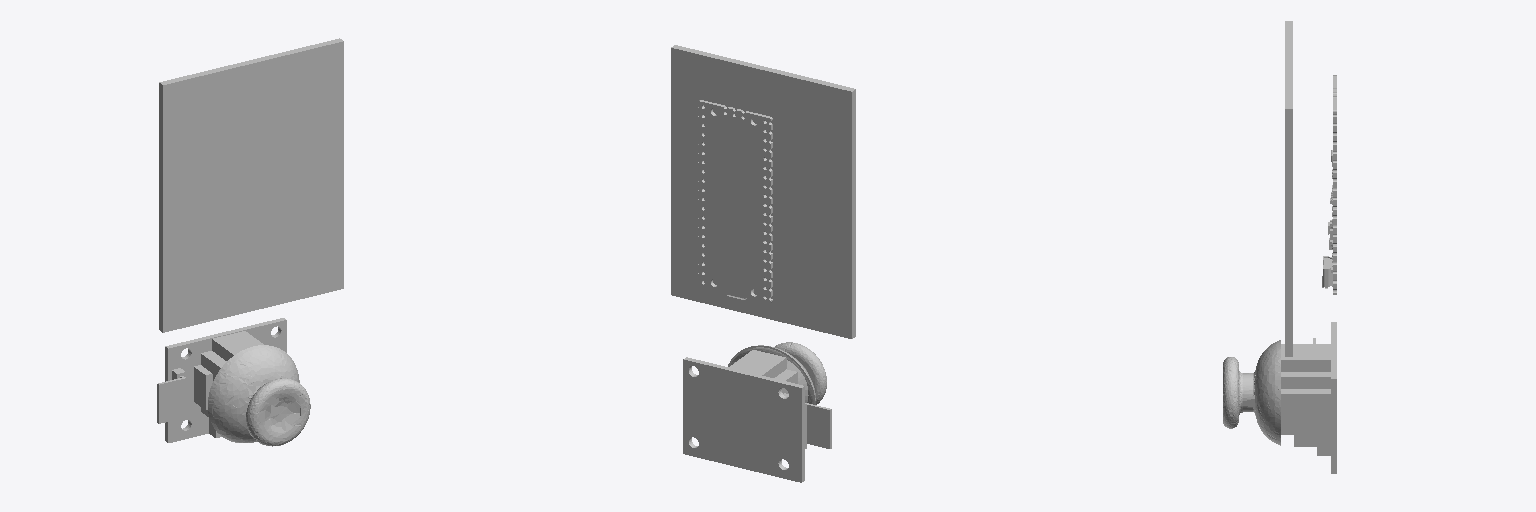
The model's file is components.obj.
3 renders of one model, left to right at view 1: azimuth 30°, elevation 25°; view 2: azimuth 150°, elevation 25°; view 3: azimuth 270°, elevation 25°, orthographic.
Visible parts, largest first — view 1: obj_0; view 2: obj_0; view 3: obj_0.
Part boxes in pixels (x1,y1,x2,y2): obj_0: (157,38,343,446); obj_0: (671,45,855,482); obj_0: (1223,21,1336,473).
Size of the model in its own units: 52 by 105 by 28.4.